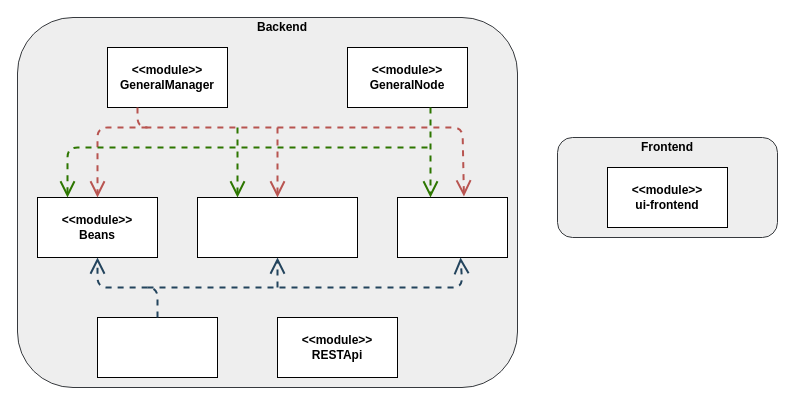
The diagram is 795 pixels wide and 405 high, and some of its shapes have lost their labels. The shapes that lost their labels are listed below. From the top down, each one's centre as x and y in pixels, then its label:
At (x=277, y=227): "<<module>> GeneralPurposeStructures".
At (x=452, y=227): "<<module>> HTTPHandler".
At (x=157, y=347): "<<module>> FrontendProxy".
